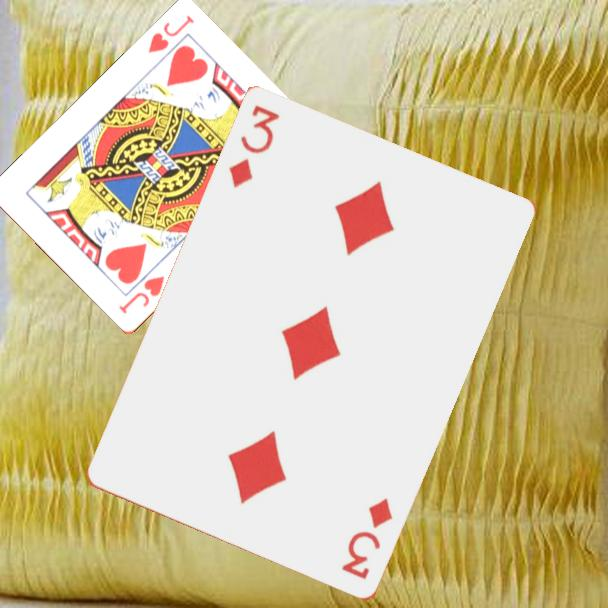d03: (225, 102, 283, 192), (338, 495, 396, 583)
h11: (115, 273, 168, 317), (144, 12, 197, 56)
